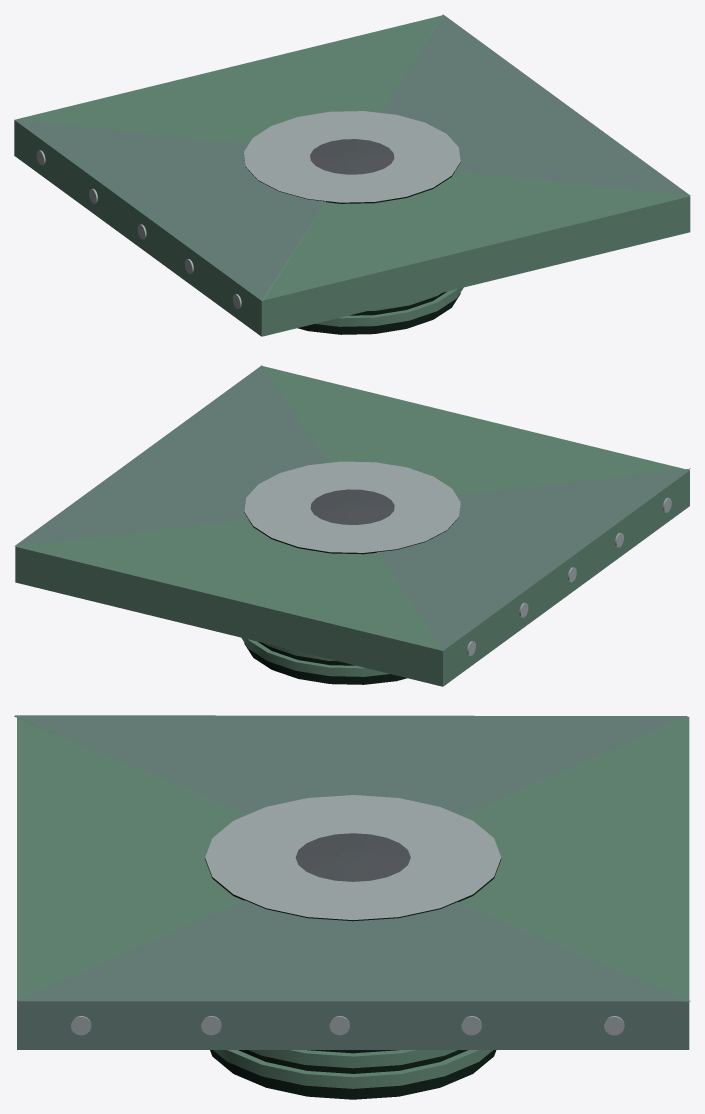
Rendered from mesa.obj.
The picture shows the model from 3 angles, top to bottom: view 1: azimuth 30°, elevation 25°; view 2: azimuth 150°, elevation 25°; view 3: azimuth 270°, elevation 25°; orthographic projection. The views are drawn at different scales.
Visible parts, largest first — view 1: pCylinder4; view 2: pCylinder4; view 3: pCylinder4.
Part boxes in pixels (bbox=[...]): pCylinder4: bbox=[14, 14, 690, 336]; pCylinder4: bbox=[14, 365, 690, 686]; pCylinder4: bbox=[14, 715, 690, 1099].
Bounding box in the file's own units: 2.52 × 0.7442 × 2.52.
6 materials, 6 textured.
